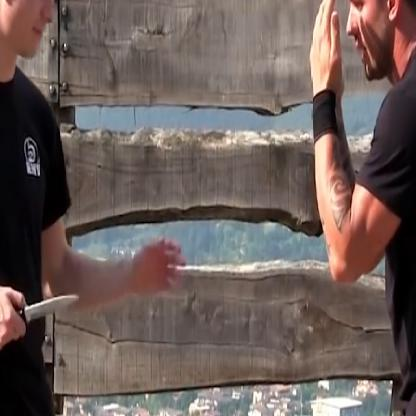knife: (0, 280, 85, 357)
